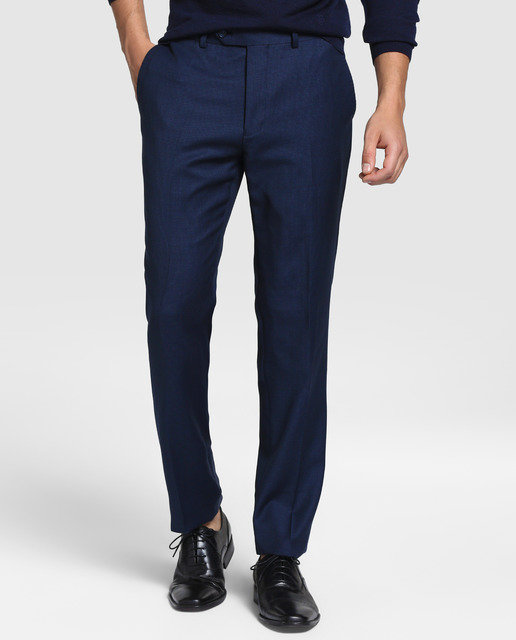feet: (144, 456, 327, 635)
